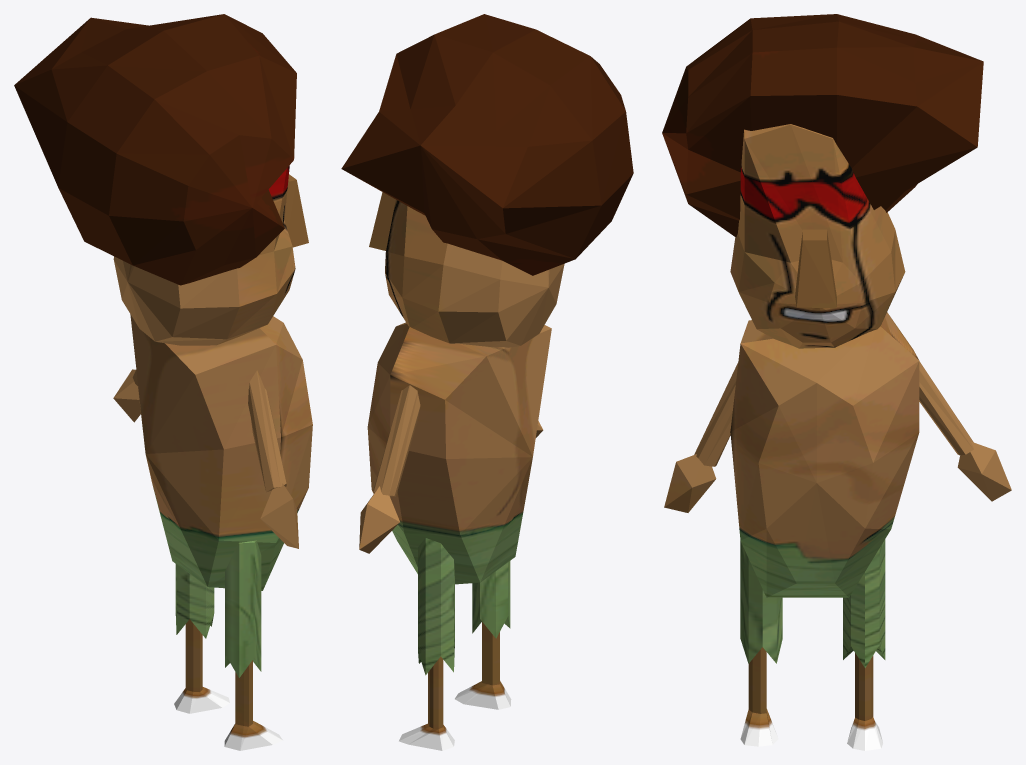
The model's file is Mnative.glb.
3 renders of one model, left to right at view 1: azimuth 30°, elevation 25°; view 2: azimuth 150°, elevation 25°; view 3: azimuth 270°, elevation 25°, orthographic.
Parts seen in each view (by area): view 1: Mnative; view 2: Mnative; view 3: Mnative.
Boxes of the visible parts, bbox=[...] form: Mnative: bbox=[14, 14, 312, 750]; Mnative: bbox=[341, 14, 633, 750]; Mnative: bbox=[662, 14, 1011, 750].
Size of the model in its own units: 64.97 by 186 by 84.94.
Materials: 1 (1 with a texture image).
